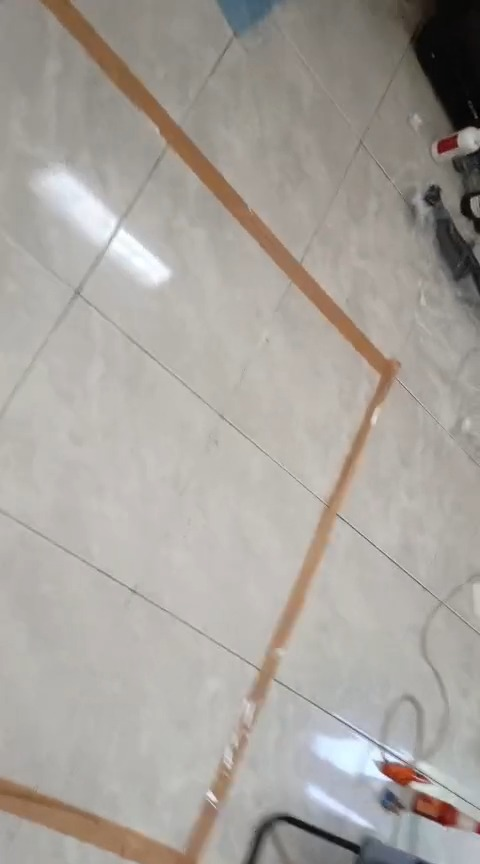floor marking: (0, 0, 397, 863)
